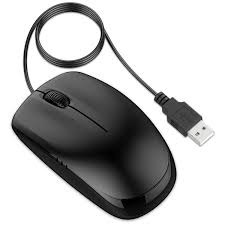mouse: (5, 65, 183, 215)
